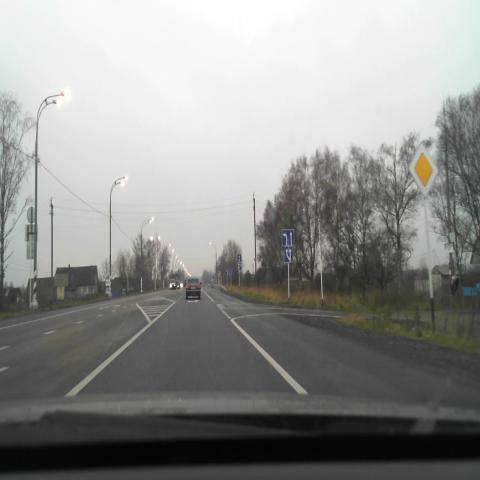2_1: (408, 143, 438, 198)
5_15_2_2: (282, 229, 294, 247)
5_15_3: (284, 247, 294, 262)
